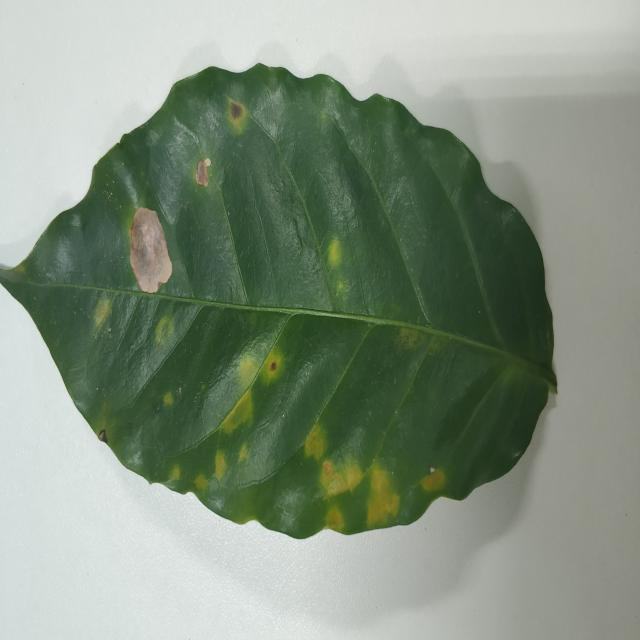Enfermedad-Roya: (0, 65, 558, 542)
